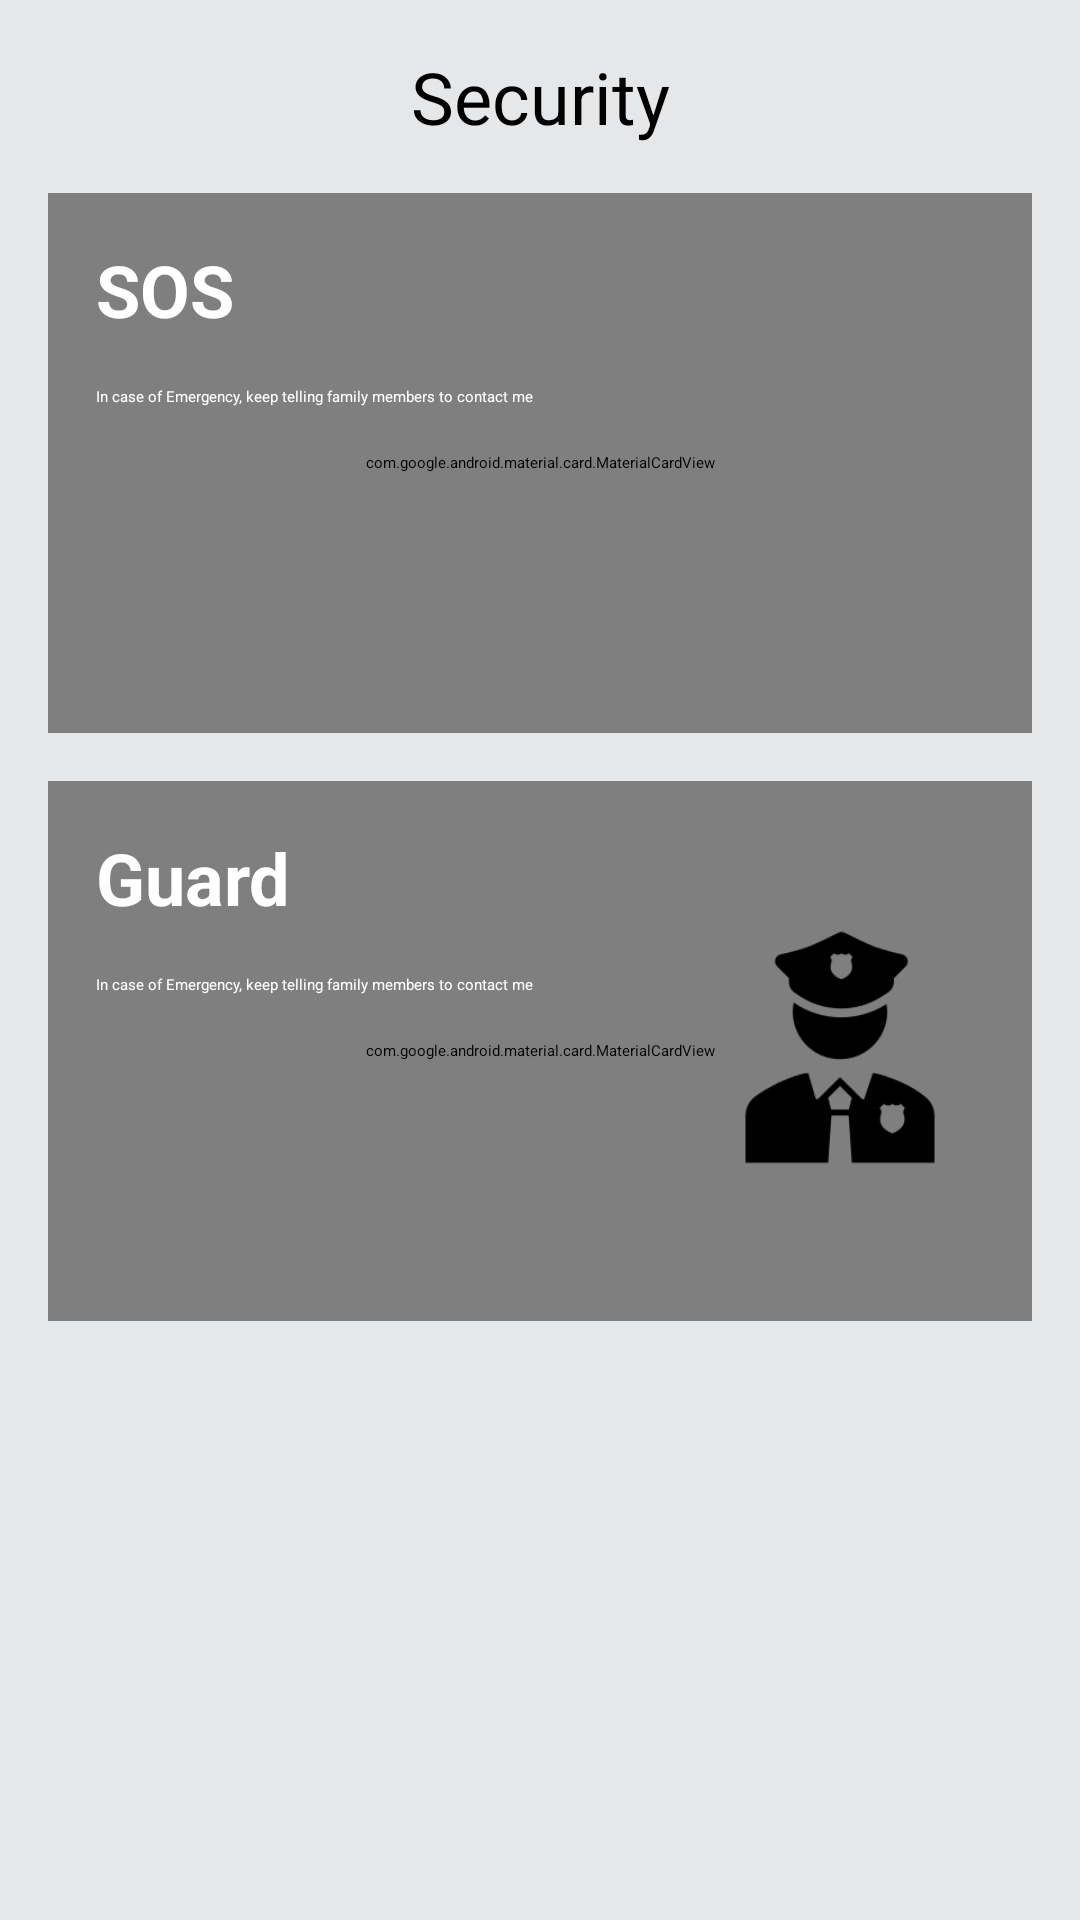

Where icons sit on this 1080x1920 app screen, as (x1, y1, x2, y2):
Guard Image: (696, 931, 935, 1163)
